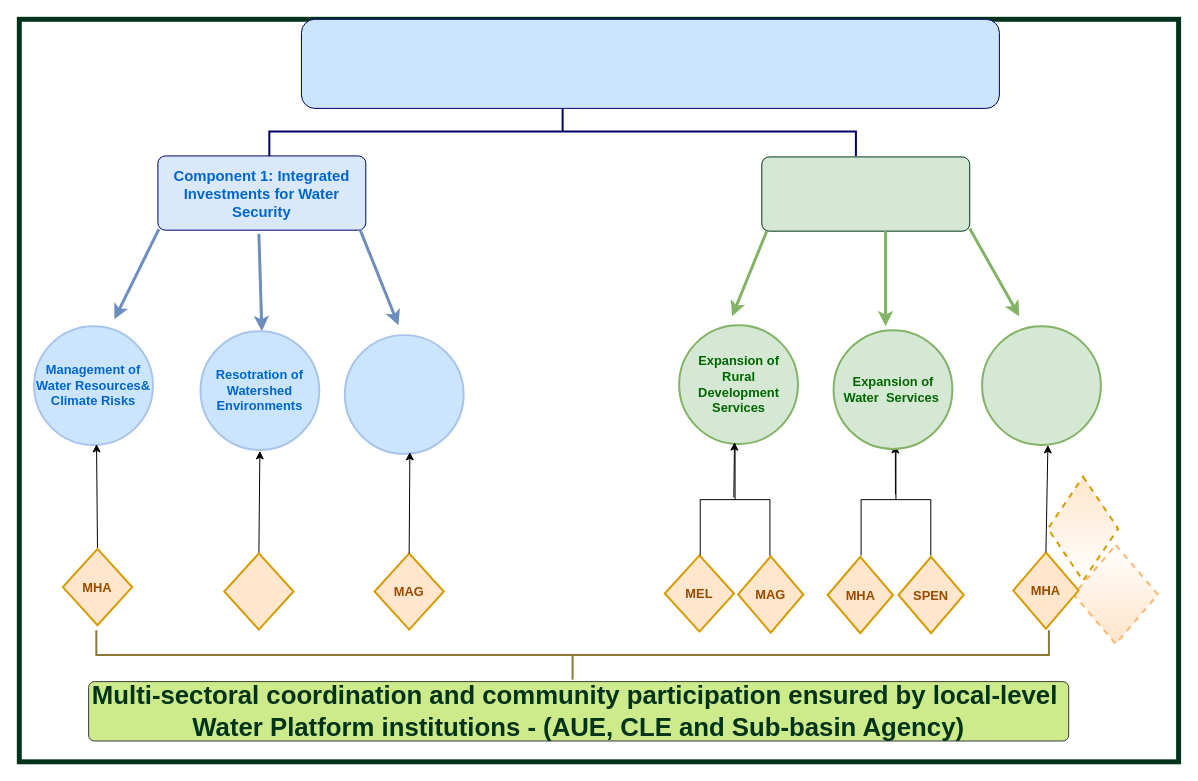
The diagram is 1198 pixels wide and 781 high, and some of its shapes have lost their labels. The shapes that lost their labels are listed below. From the top down, each one's centre as x and y in pixels, then its label:
At (649,63): "PMU hosted under the Office of the Prime Minister Niger IWSP".
At (865,193): "Component 2: Expansion of Integrated Water Services".
At (403,394): "Mobilisation of Water Resources".
At (1041,385): "Expansion of Public sanitation infrastructure & Behavioral Communication".
At (1082,528): "M Gender Affairs".
At (258,591): "ME/LCD".
At (1115,594): "M Health & M Education".
